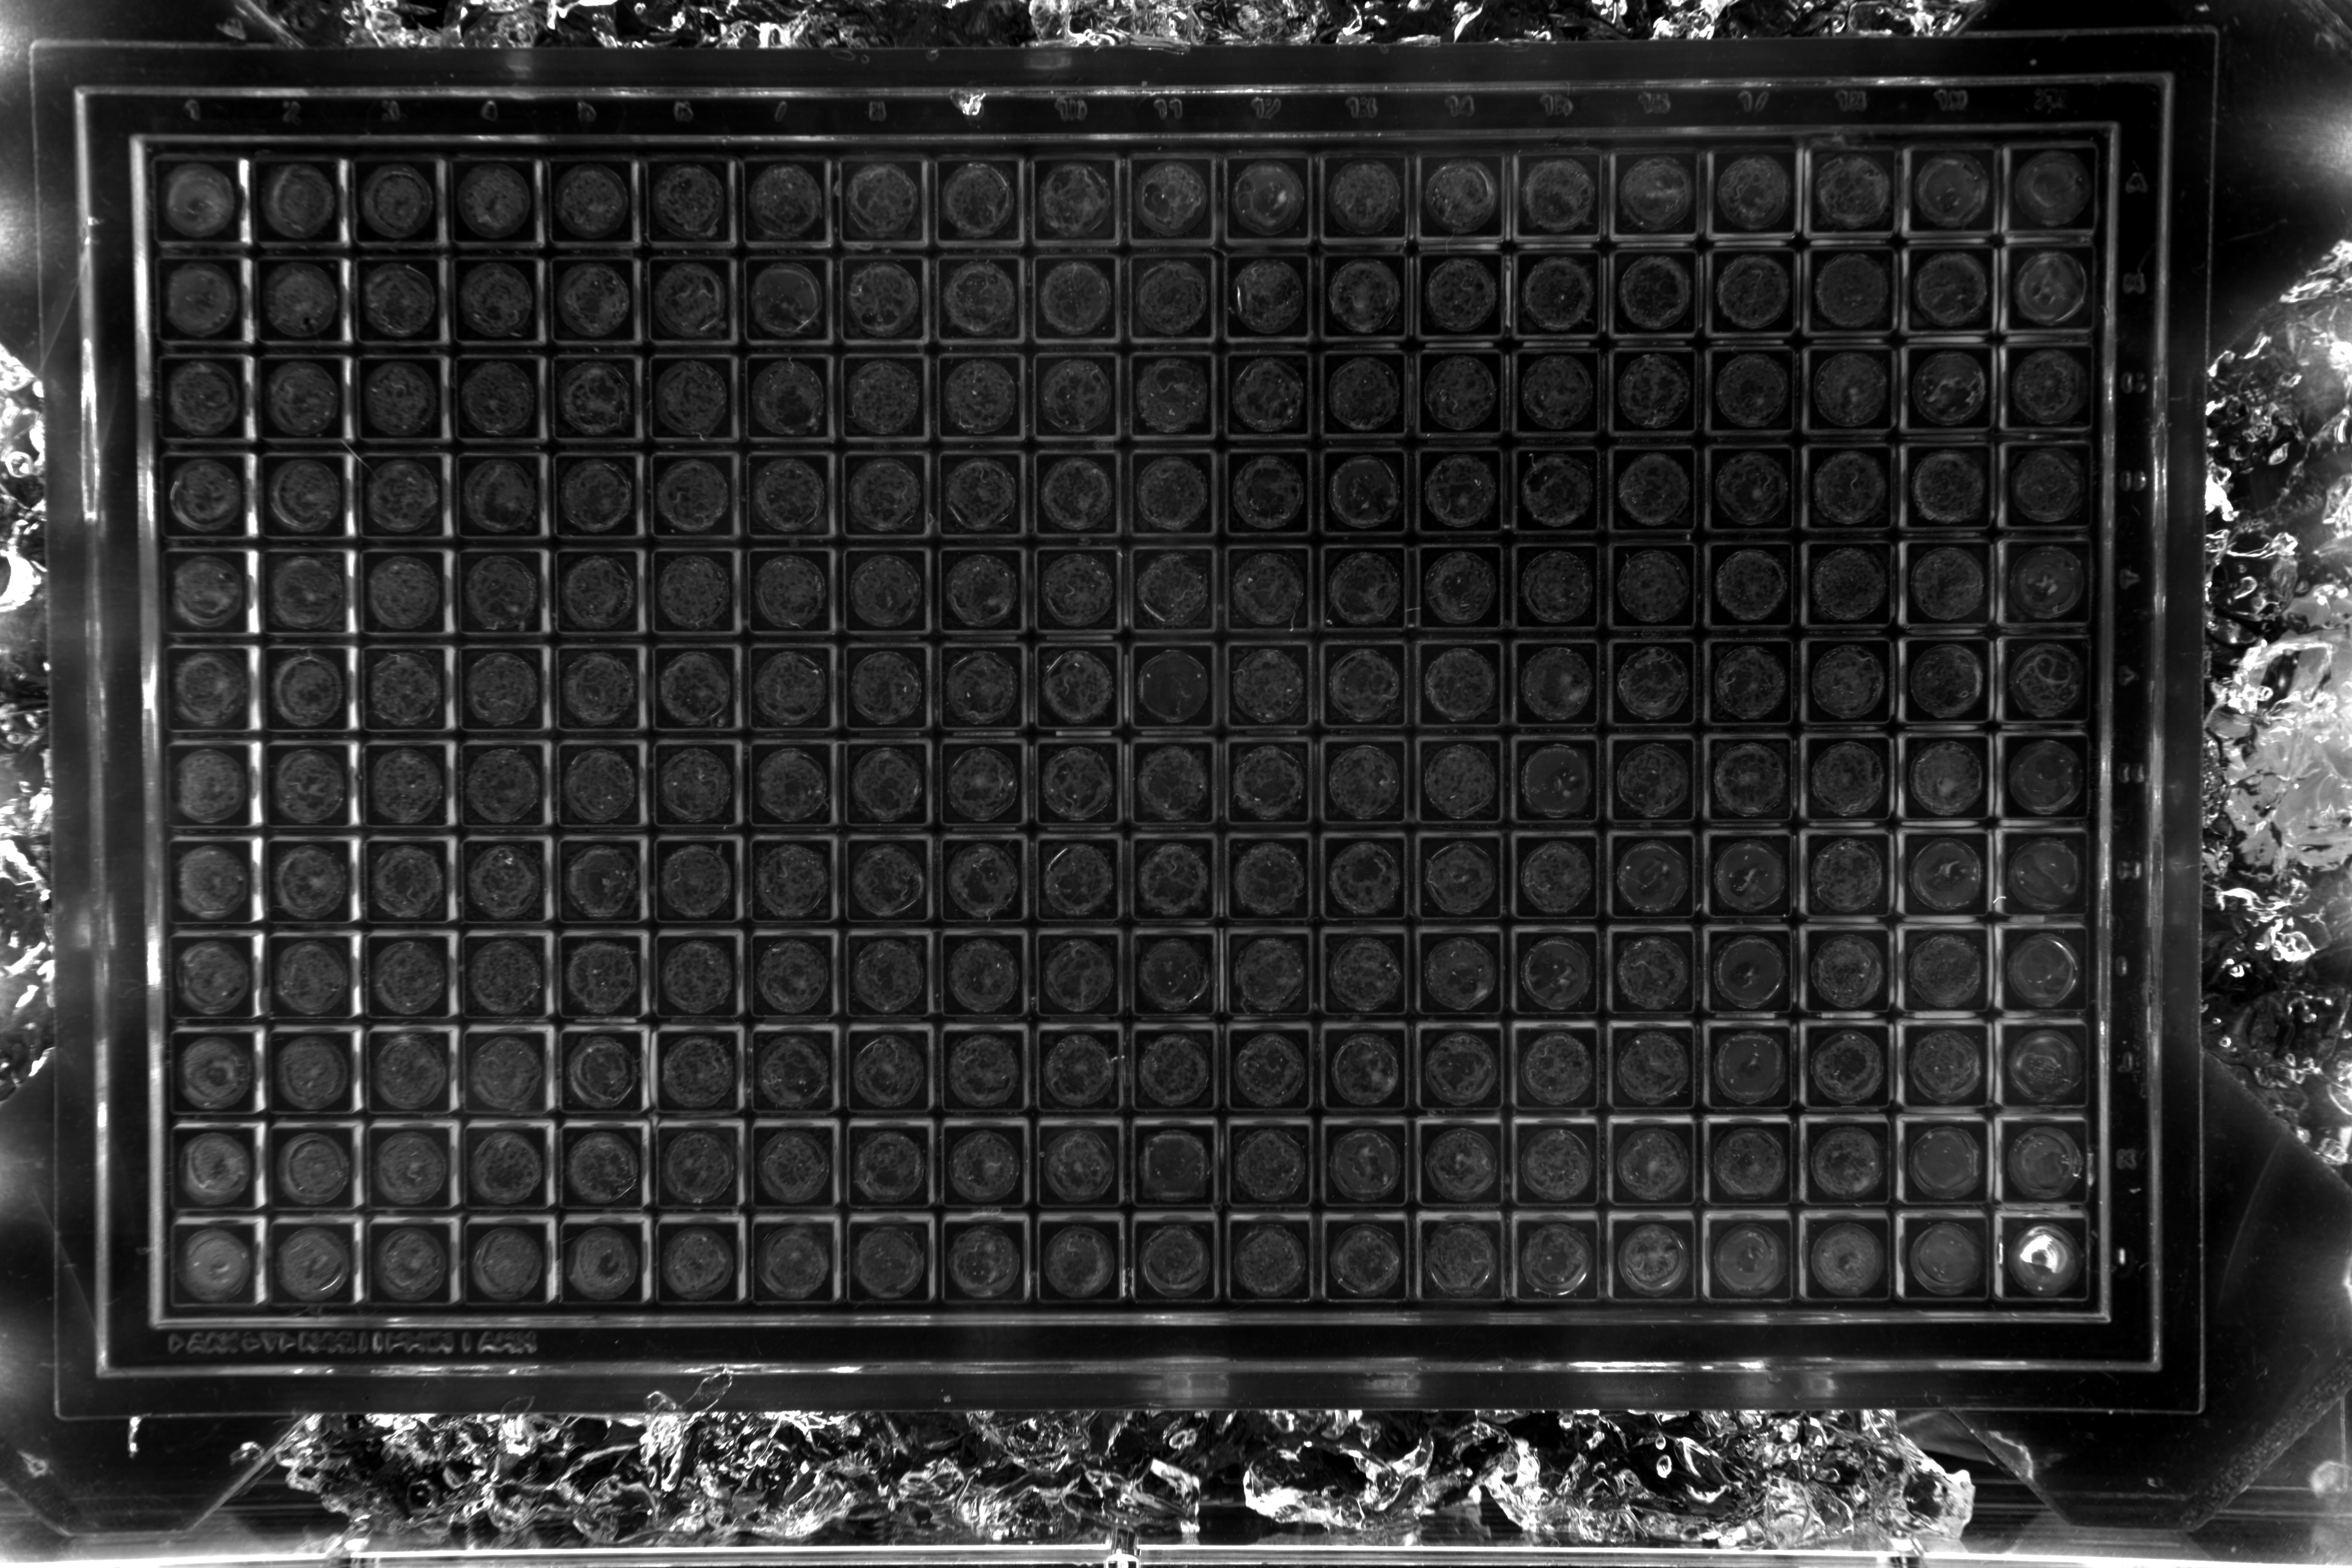WM_well: (497, 1118, 586, 1206), (689, 534, 779, 621), (789, 1018, 878, 1106), (1176, 1209, 1263, 1298), (205, 926, 292, 1013), (303, 1022, 390, 1109), (486, 140, 574, 227), (497, 730, 584, 817), (499, 1020, 586, 1108), (595, 1116, 682, 1204), (693, 922, 780, 1010), (789, 632, 877, 719), (983, 726, 1071, 814), (1080, 630, 1167, 717), (1274, 726, 1361, 814), (1368, 1113, 1456, 1200), (1372, 238, 1459, 325), (1466, 920, 1554, 1008), (1563, 1017, 1650, 1104), (1564, 628, 1652, 716), (1661, 920, 1748, 1008), (1664, 530, 1752, 618), (1664, 432, 1752, 520), (1962, 527, 2049, 614)
